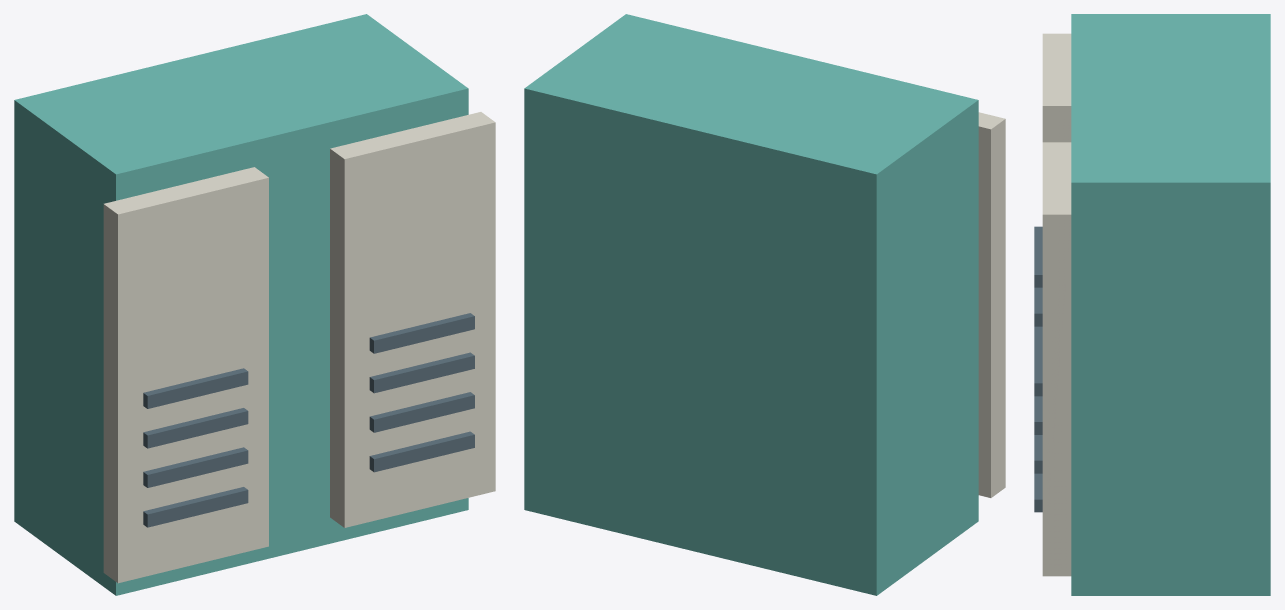
Rendered from voxel-city-districts-electrical-cabinet-ab8d60d3__24844.glb.
3 renders of one model, left to right at view 1: azimuth 30°, elevation 25°; view 2: azimuth 150°, elevation 25°; view 3: azimuth 270°, elevation 25°, orthographic.
Parts seen in each view (by area): view 1: electrical-cabinet-concrete, electrical-cabinet-accent, electrical-cabinet-dark; view 2: electrical-cabinet-accent, electrical-cabinet-concrete; view 3: electrical-cabinet-accent, electrical-cabinet-concrete, electrical-cabinet-dark.
Part boxes in pixels (x1=…): electrical-cabinet-concrete: x1=103, y1=112, x2=495, y2=583; electrical-cabinet-accent: x1=14, y1=14, x2=468, y2=595; electrical-cabinet-dark: x1=143, y1=313, x2=474, y2=527; electrical-cabinet-accent: x1=524, y1=14, x2=978, y2=595; electrical-cabinet-concrete: x1=978, y1=112, x2=1005, y2=497; electrical-cabinet-accent: x1=1071, y1=14, x2=1270, y2=595; electrical-cabinet-concrete: x1=1042, y1=33, x2=1071, y2=576; electrical-cabinet-dark: x1=1034, y1=226, x2=1042, y2=512.
Size of the model in its own units: 1.5 by 1.6 by 0.83.
